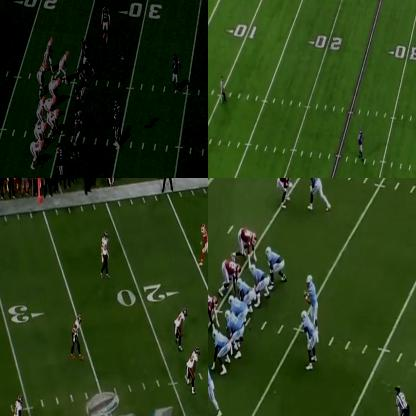CENTER: (235, 274, 251, 300), (50, 108, 62, 138)
DB: (279, 178, 293, 209), (101, 231, 110, 276), (72, 316, 82, 355), (172, 54, 180, 93), (13, 395, 25, 415), (103, 6, 110, 39), (357, 130, 364, 160)
LB: (186, 347, 199, 394), (175, 308, 186, 351), (81, 38, 92, 76), (111, 108, 120, 149), (56, 141, 65, 177), (113, 99, 120, 108)
QB: (308, 274, 317, 309), (37, 96, 47, 123)
SKILL: (302, 313, 316, 366), (215, 332, 229, 370), (307, 178, 324, 209), (208, 361, 216, 412), (36, 62, 48, 92), (200, 222, 207, 262), (44, 36, 53, 64), (61, 51, 68, 86)
